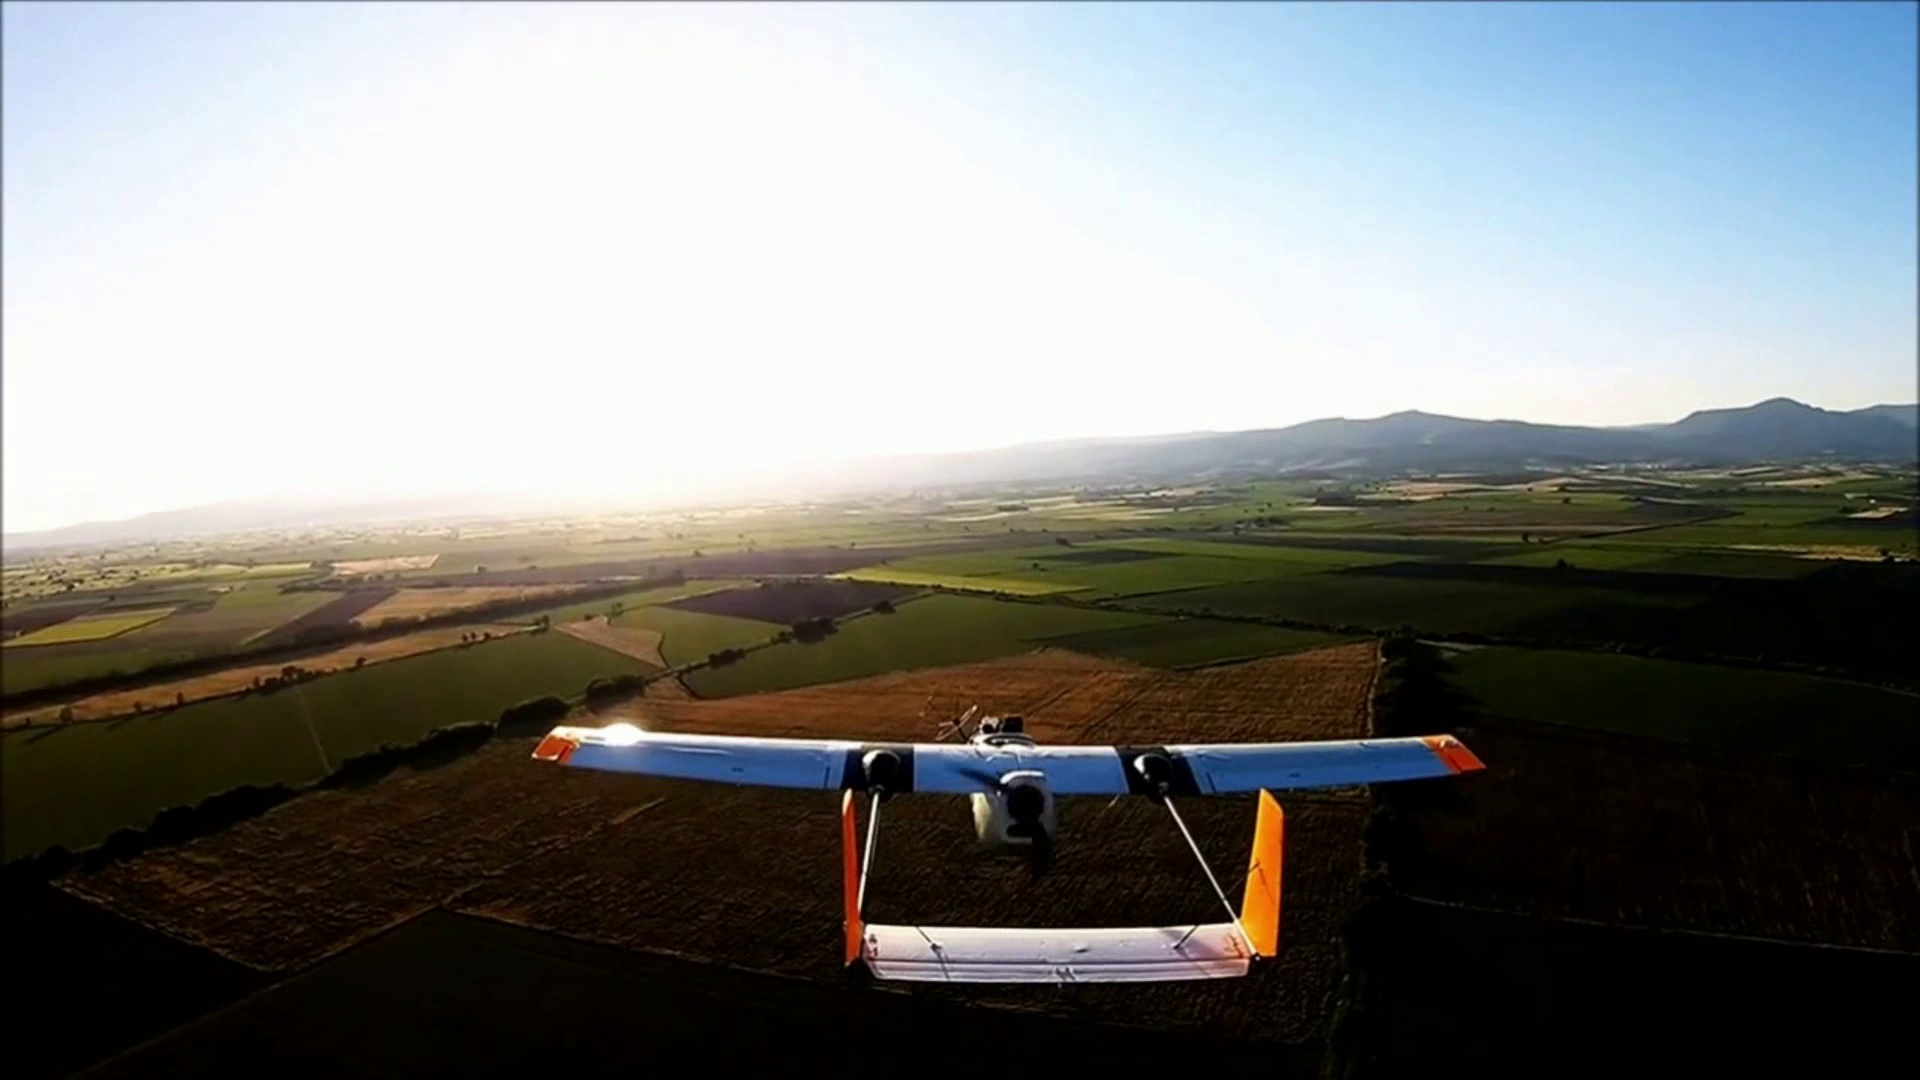airplane: (530, 713, 1487, 1015)
